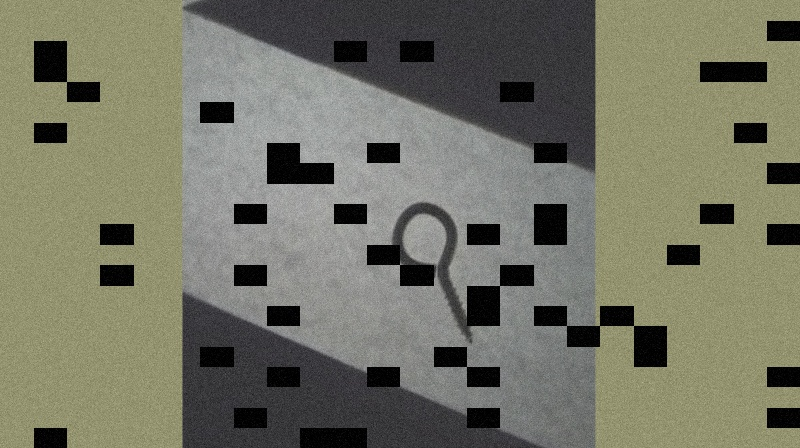O001: (388, 190, 476, 347)
